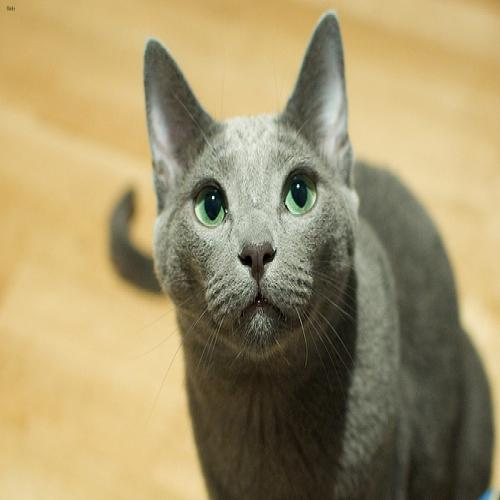rblue: (126, 1, 375, 362)
